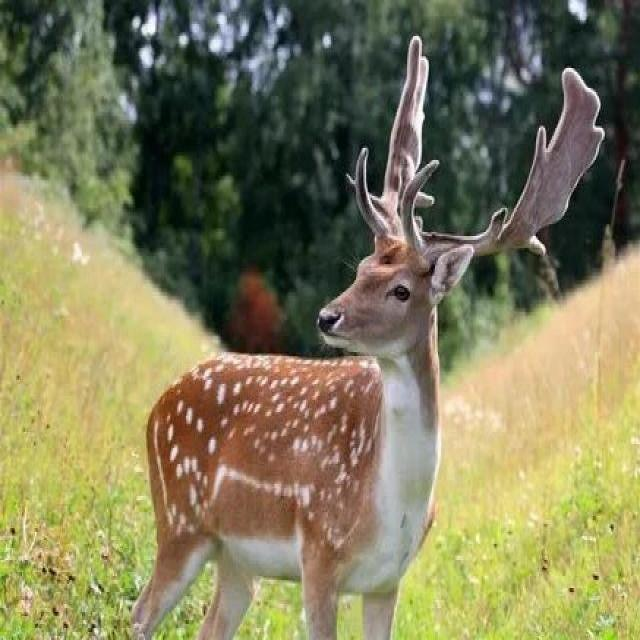deer: (131, 98, 580, 602)
